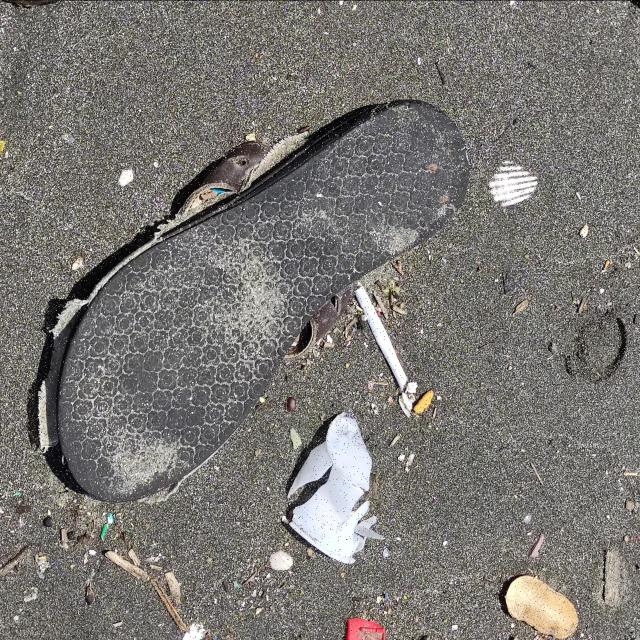rubber_waste: (55, 97, 474, 507)
